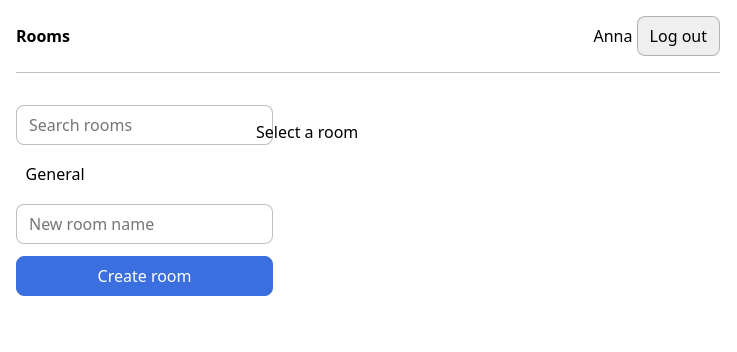
it: RoomsLayout › creates a room and opens it
This screenshot has width=737, height=352.
Type "Random" into the field labelled "New room name" at (144, 224), box [16,204,273,244]
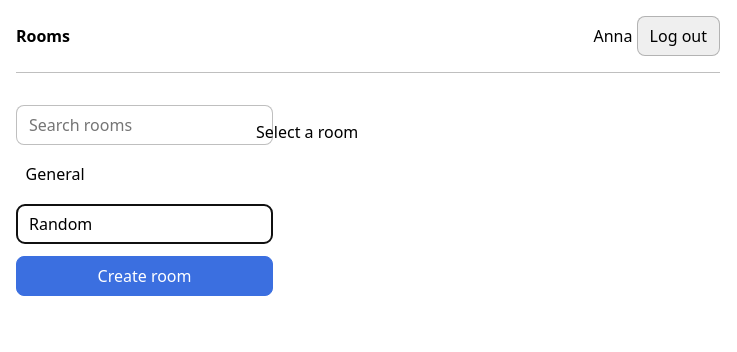
Click the button "Create room" at (144, 276), box [16,256,273,296]
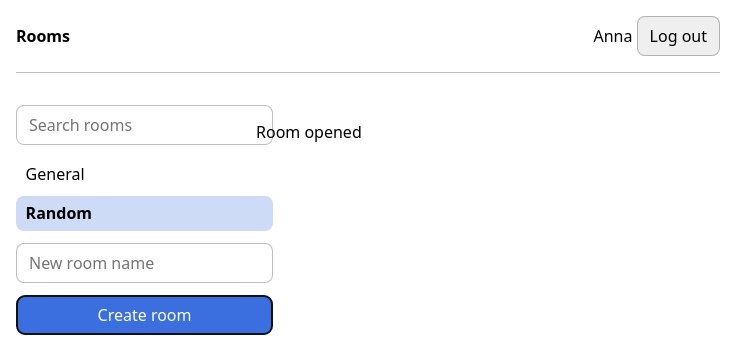
Check: the text "Room opened" is shown, box [256,121,362,143]
Check: the link "Random" is shown, box [16,196,273,231]
